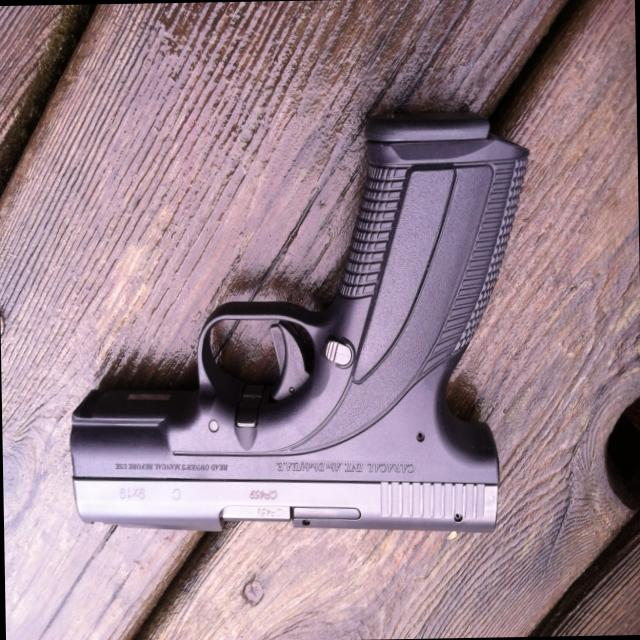Gun: (50, 87, 539, 568)
